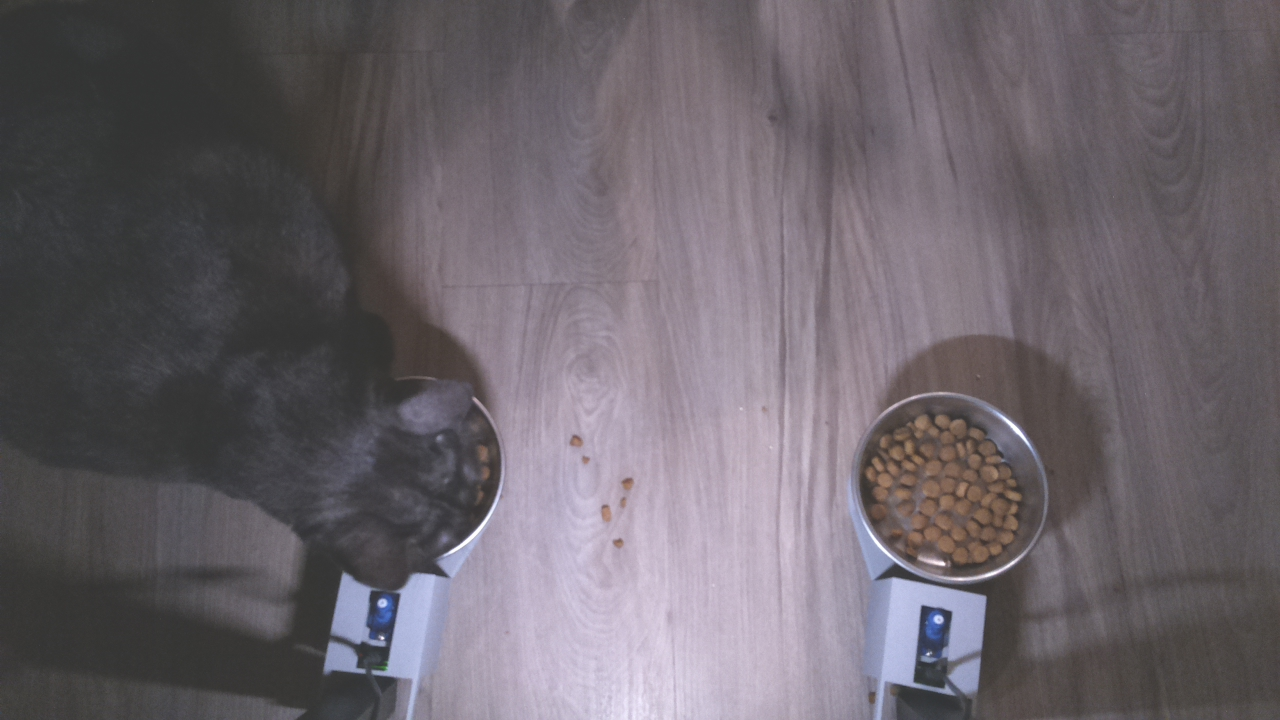open_bowl: (844, 386, 1052, 587)
saki_eating: (279, 328, 501, 600)
